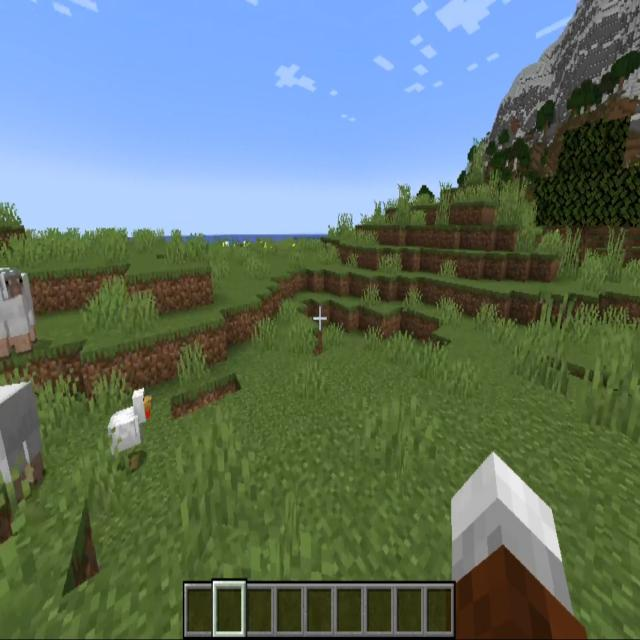Chicken: (108, 387, 154, 473)
Sheep: (0, 382, 45, 514), (0, 266, 39, 360)
